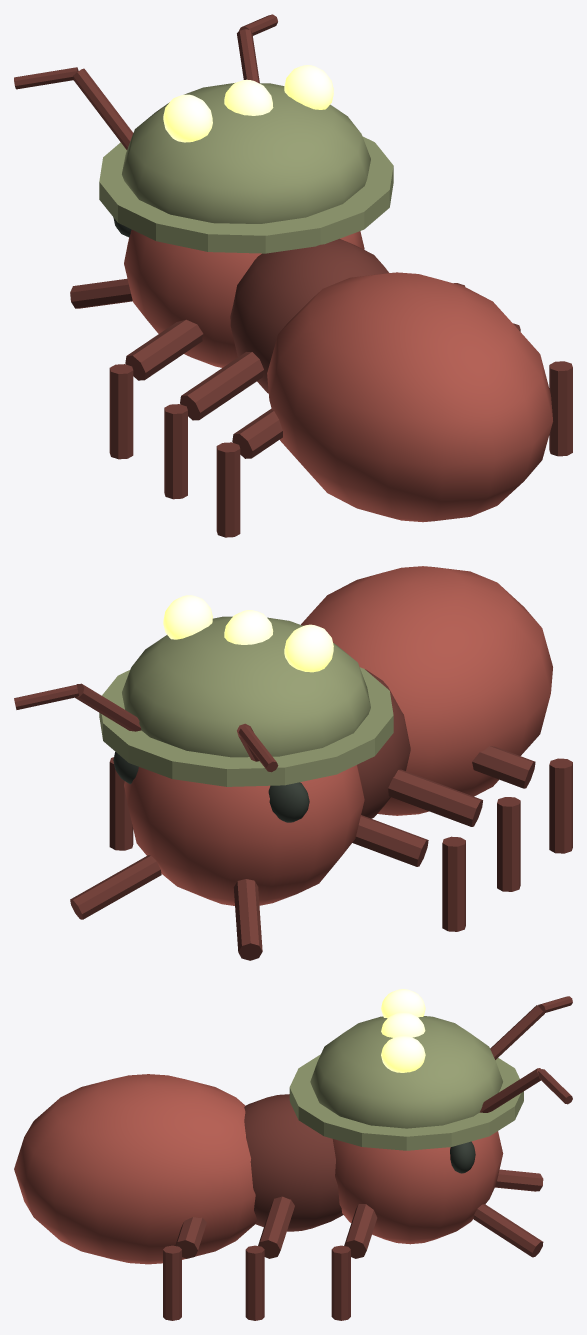
File: soldier-ant.glb
3 views of the same model, one above another, from view 1: azimuth 30°, elevation 25°; view 2: azimuth 150°, elevation 25°; view 3: azimuth 270°, elevation 25° (orthographic). The views are drawn at different scales.
Parts seen in each view (by area): view 1: ant abdomen, helmet dome, helmet brim, ant head, ant thorax, upper leg.001, upper leg.002, lower leg, lower leg.002, lower leg.001, lower leg.003, brain pip (+7 smaller); view 2: ant abdomen, helmet dome, ant head, helmet brim, ant thorax, upper leg.001, mandible.001, lower leg, lower leg.001, lower leg.002, upper leg.002, mandible (+9 smaller); view 3: ant abdomen, helmet dome, ant head, ant thorax, helmet brim, lower leg.004, lower leg.005, mandible.001, lower leg.003, upper leg.004, brain pip.002, upper leg.005 (+8 smaller).
Boxes of the visible parts, x1,y1,x2,y2 form: ant abdomen: (267,272,552,522); helmet dome: (122,83,370,223); helmet brim: (99,136,393,253); ant head: (124,229,364,367); ant thorax: (230,238,388,393); upper leg.001: (180,352,263,420); upper leg.002: (125,319,203,380); lower leg: (216,442,240,537); lower leg.002: (109,364,133,459); lower leg.001: (164,404,187,499); lower leg.003: (549,361,572,456); brain pip: (163,94,212,142); ant abdomen: (301,566,552,815); helmet dome: (122,616,370,757); ant head: (124,765,364,905); helmet brim: (99,667,393,786); ant thorax: (357,669,410,818); upper leg.001: (388,769,482,826); mandible.001: (70,855,161,919); lower leg: (549,758,572,853); lower leg.001: (497,797,520,891); lower leg.002: (442,836,465,931); upper leg.002: (352,815,428,866); mandible: (233,879,262,960); ant abdomen: (14,1074,257,1264); helmet dome: (310,1016,502,1128); ant head: (332,1131,503,1244); ant thorax: (244,1094,343,1231); helmet brim: (289,1054,523,1150); lower leg.004: (245,1245,264,1320); lower leg.005: (331,1245,350,1320); mandible.001: (473,1204,543,1257); lower leg.003: (163,1245,181,1320); upper leg.004: (258,1196,294,1258); brain pip.002: (381,1035,425,1072); upper leg.005: (344,1204,377,1258).
Size of the model in its own units: 0.936 by 0.767 by 1.62.
